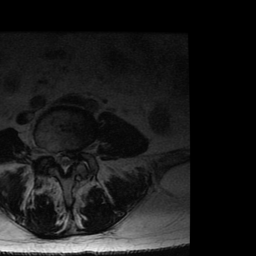CCS_normal: (62, 145, 68, 177)
LFS_severe_stenosis: (75, 142, 81, 162)
LLS_severe_stenosis: (69, 145, 75, 171)
RFS_severe_stenosis: (48, 144, 55, 165)
RLS_normal: (55, 145, 62, 169)
